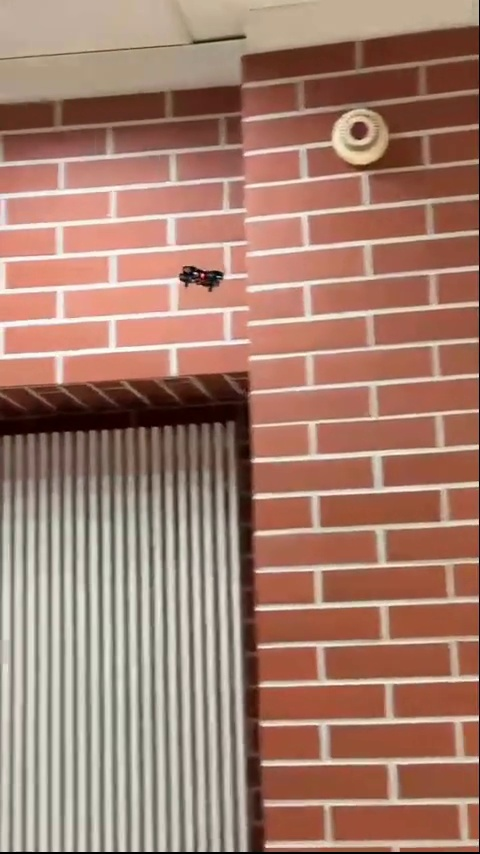drone: (178, 264, 227, 287)
